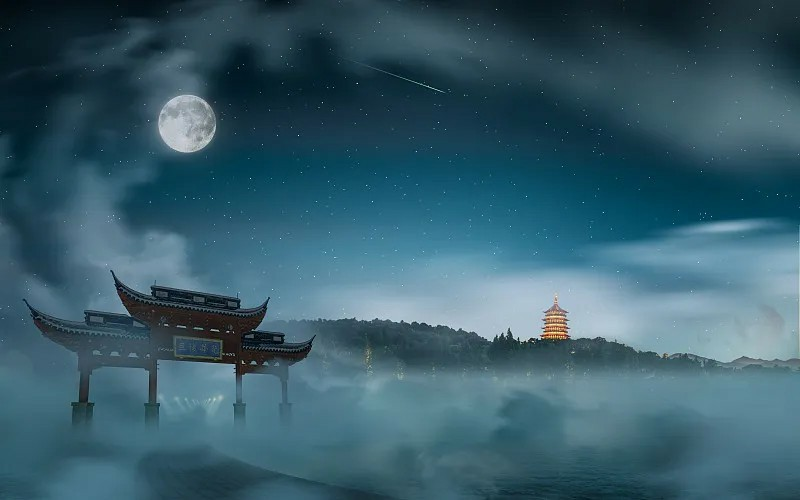Leifeng: (538, 292, 571, 341)
